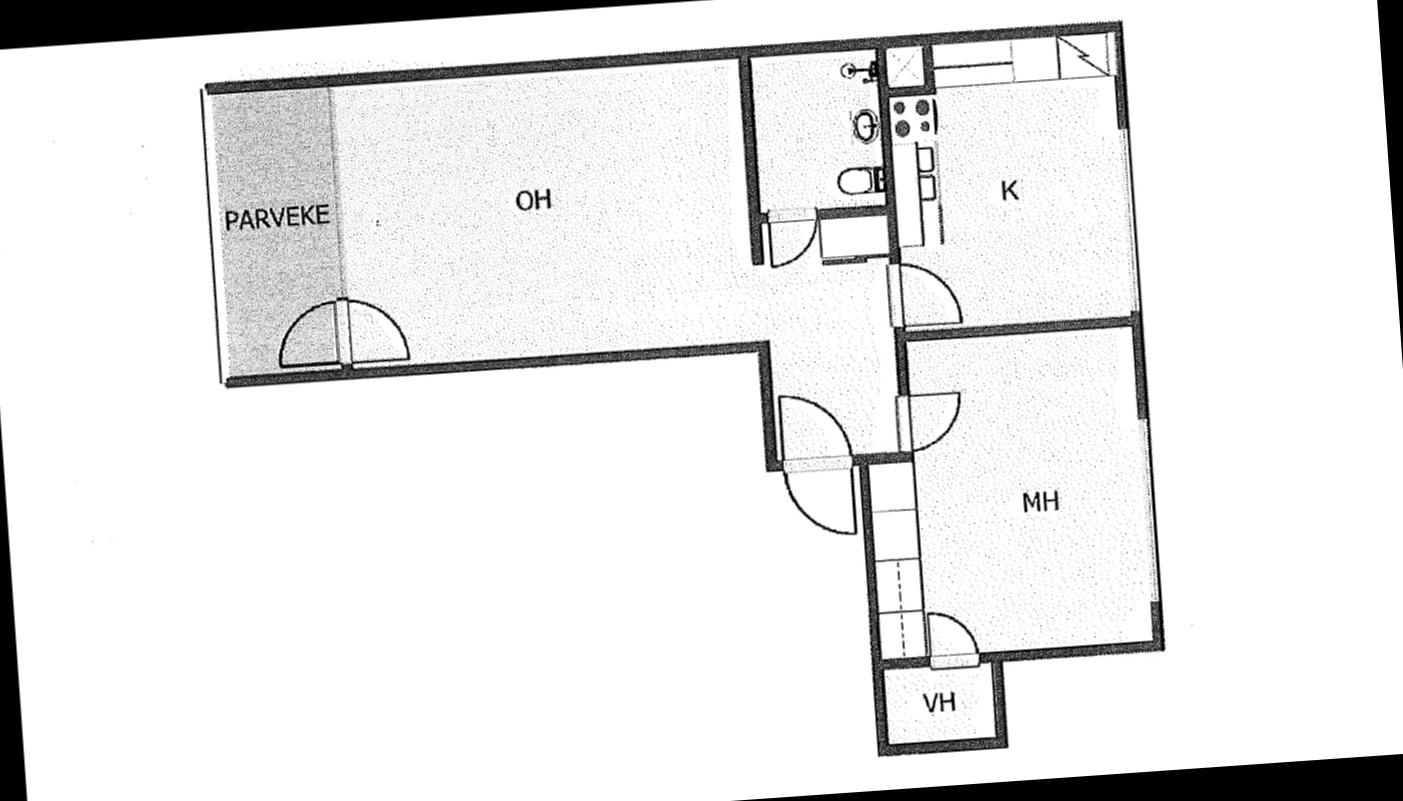door: (778, 452, 862, 545), (260, 288, 352, 372), (773, 382, 858, 472), (333, 286, 412, 372), (882, 254, 966, 332), (891, 384, 968, 455), (922, 602, 983, 674), (762, 202, 820, 273)
window: (1112, 114, 1146, 319), (1135, 404, 1165, 612)
